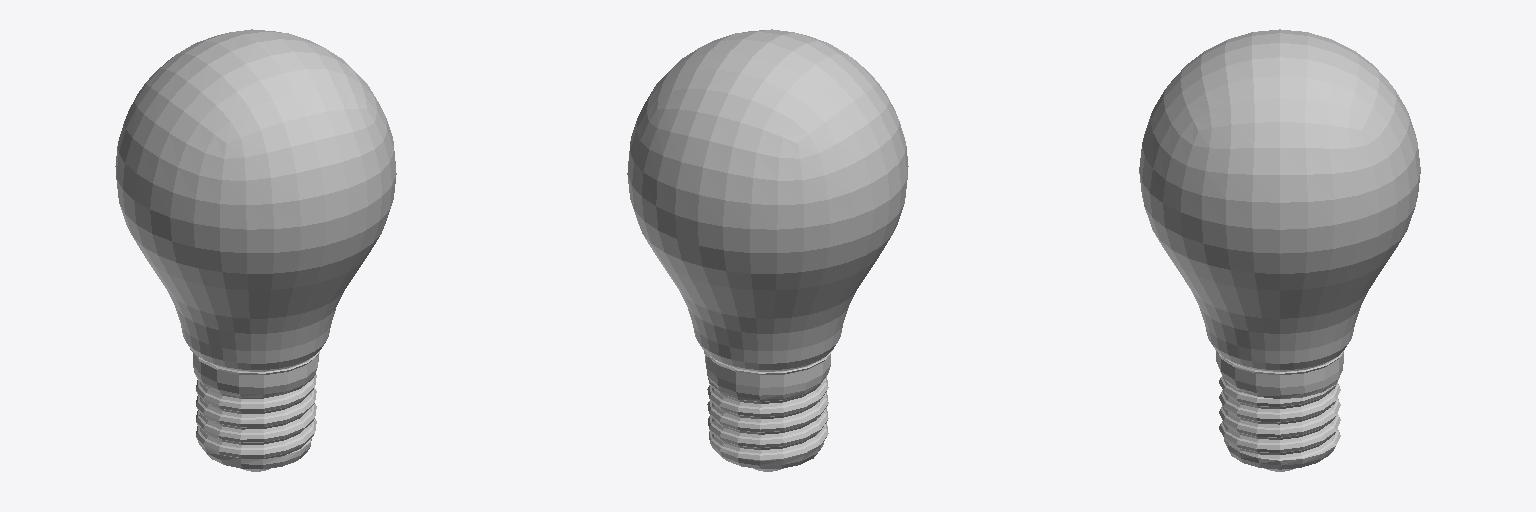
The model's file is lightBulb.obj.
The picture shows the model from 3 angles: view 1: azimuth 30°, elevation 25°; view 2: azimuth 150°, elevation 25°; view 3: azimuth 270°, elevation 25°; orthographic projection.
Visible parts, largest first — view 1: Object_4, Object_5; view 2: Object_4, Object_5; view 3: Object_4, Object_5.
Boxes of the visible parts, x1=… form: Object_4: x1=115, y1=29, x2=396, y2=371; Object_5: x1=190, y1=349, x2=319, y2=471; Object_4: x1=627, y1=29, x2=908, y2=371; Object_5: x1=704, y1=349, x2=833, y2=471; Object_4: x1=1139, y1=29, x2=1420, y2=371; Object_5: x1=1216, y1=351, x2=1343, y2=471.
Size of the model in its own units: 0.5999 by 1 by 0.5999.